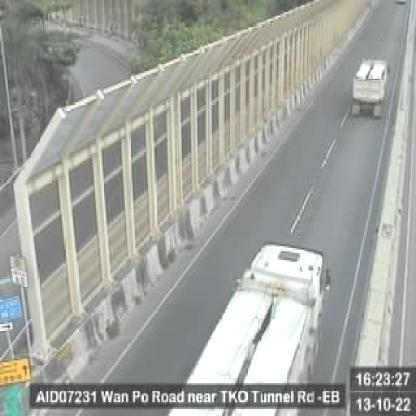Truck: (160, 239, 330, 416), (351, 57, 391, 118)
